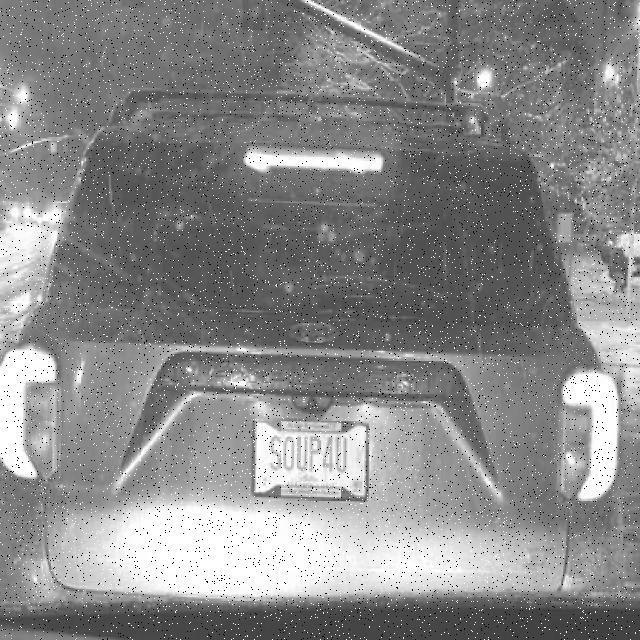LicensePlate: (251, 415, 368, 502)
